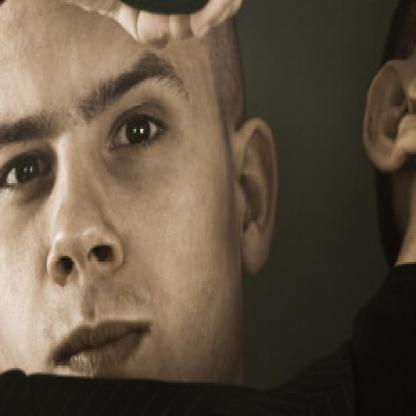gun: (88, 0, 415, 61)
